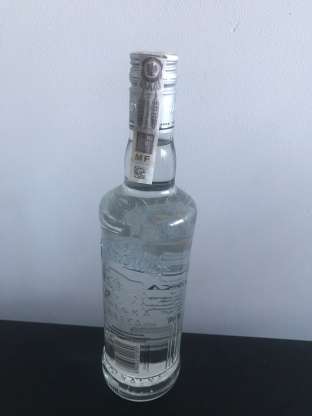nakretka: (126, 45, 181, 136)
